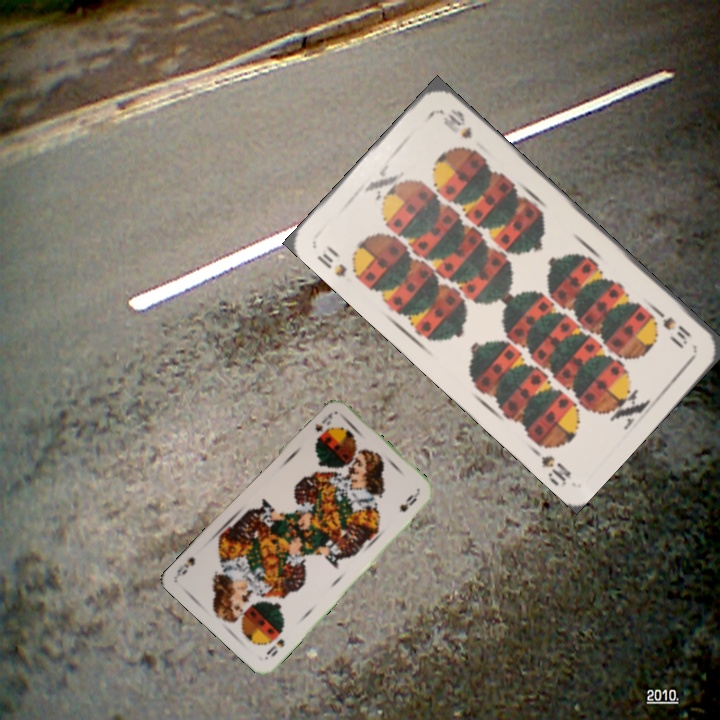S10: (649, 303, 693, 349), (313, 249, 350, 280)
SO: (262, 635, 287, 661), (311, 409, 335, 435)
